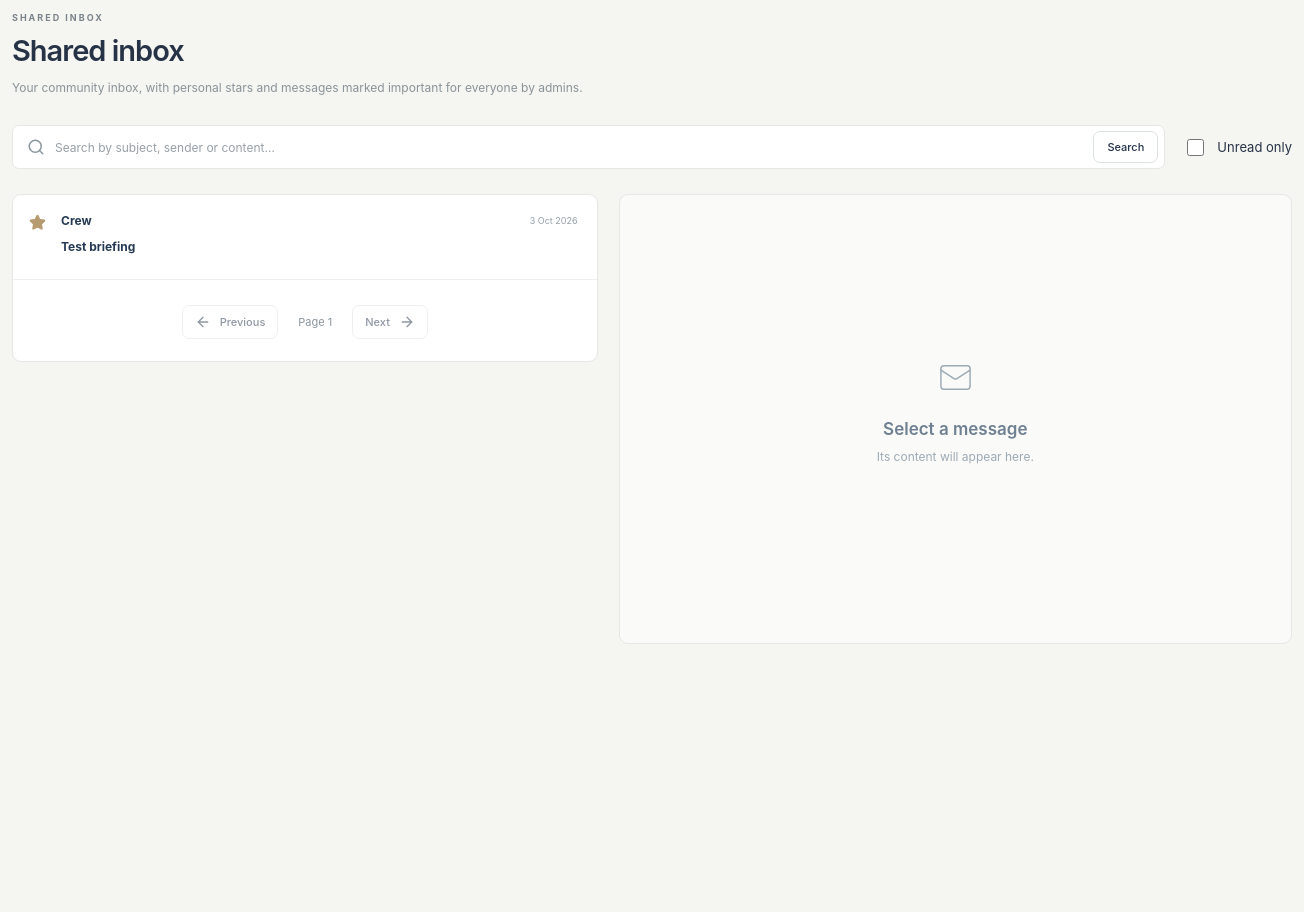
Test case: Mail read state › lets admins toggle shared importance without changing personal stars
The width and height of the screenshot is (1304, 912).
Click the button "Crew 3 Oct 2026 Test briefing". click: (76, 221)
box: 52,213 -> 587,261
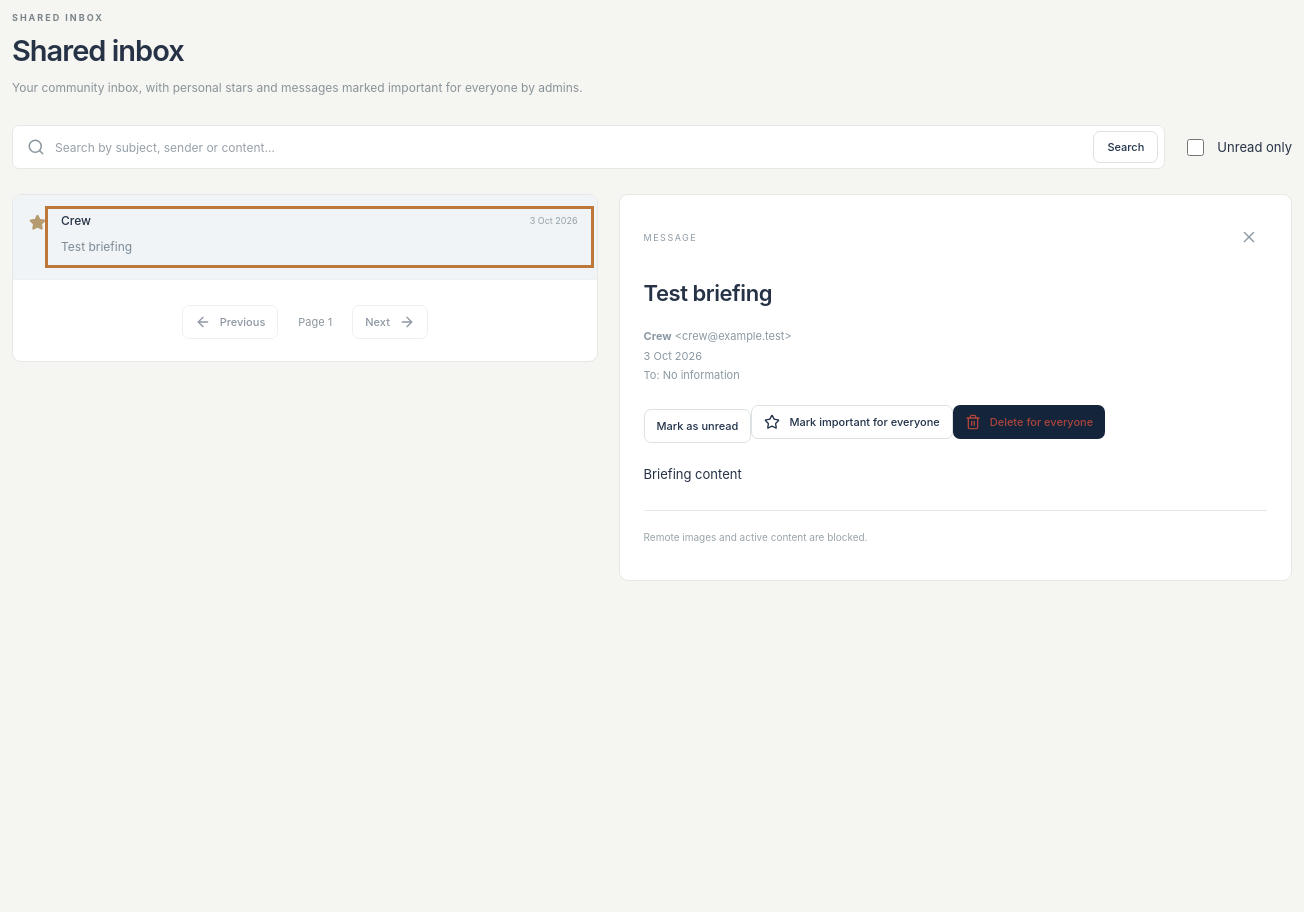
Click the button "Mark important for everyone". click: (852, 422)
box: 751,405 -> 953,439
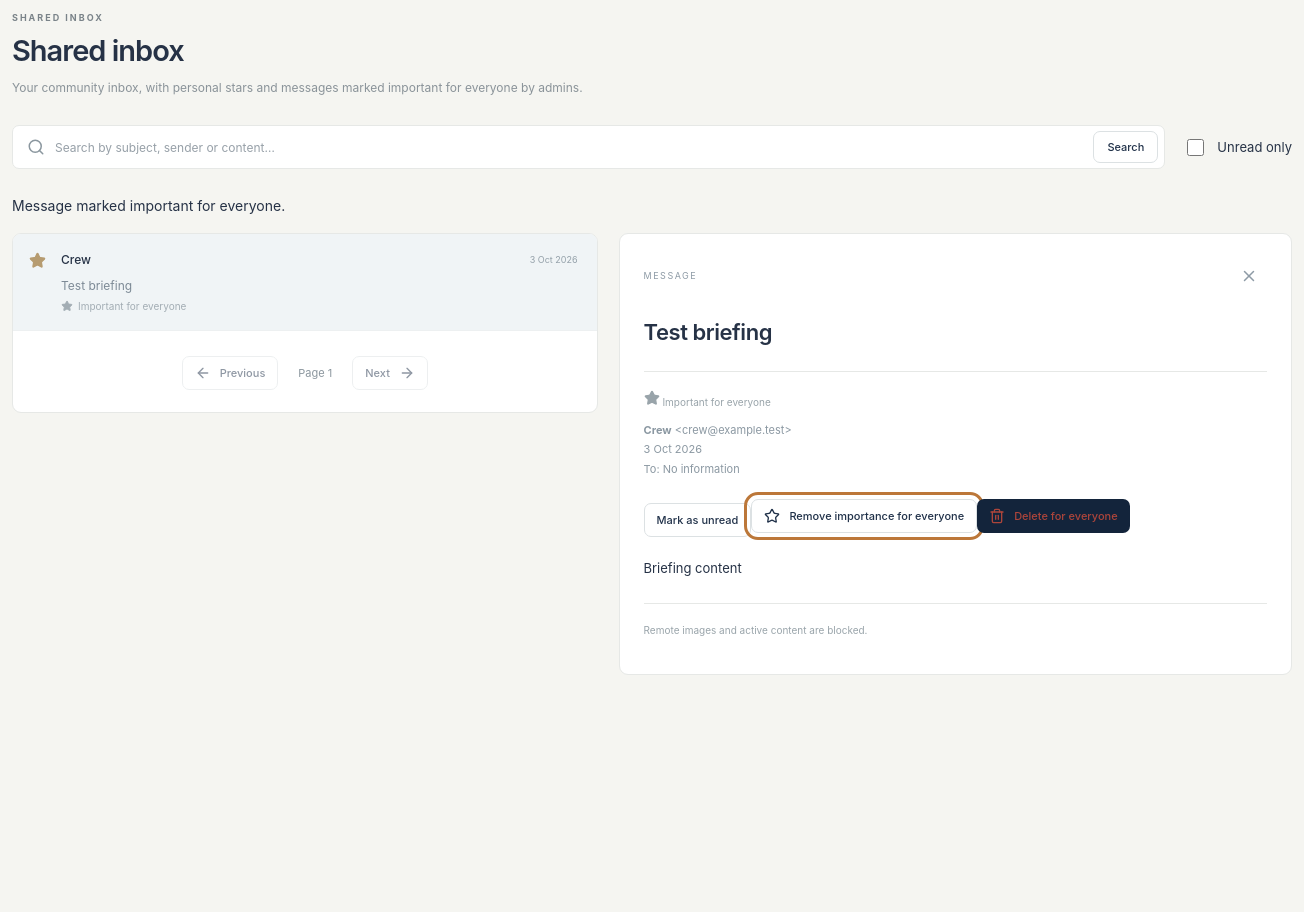
Result: the text "Message marked important for everyone." is shown at 12,197 -> 285,214
Click the button "Remove importance for everyone". click: (864, 516)
box: 751,499 -> 977,533
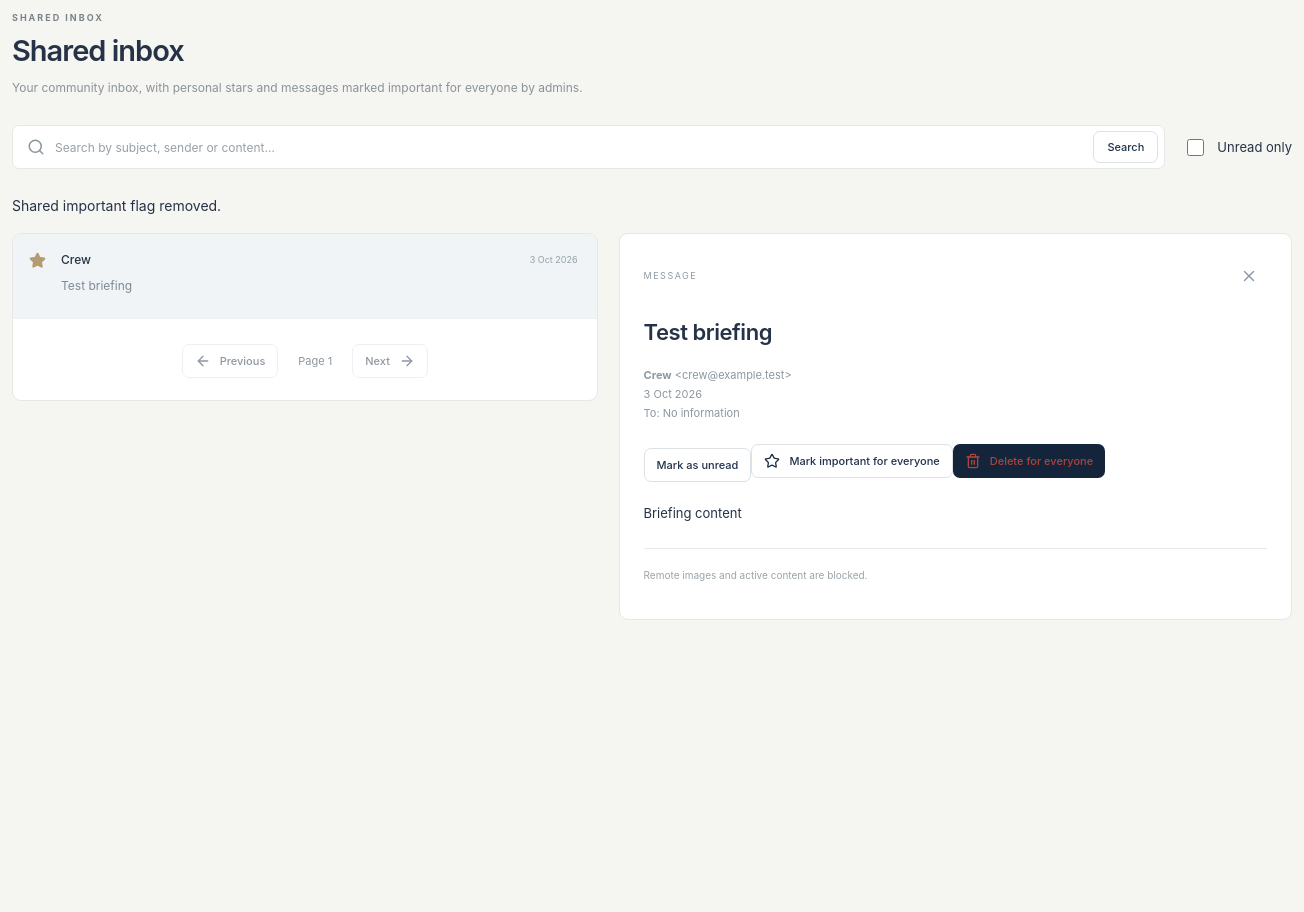
Result: the text "Shared important flag removed." is shown at 12,197 -> 221,214
